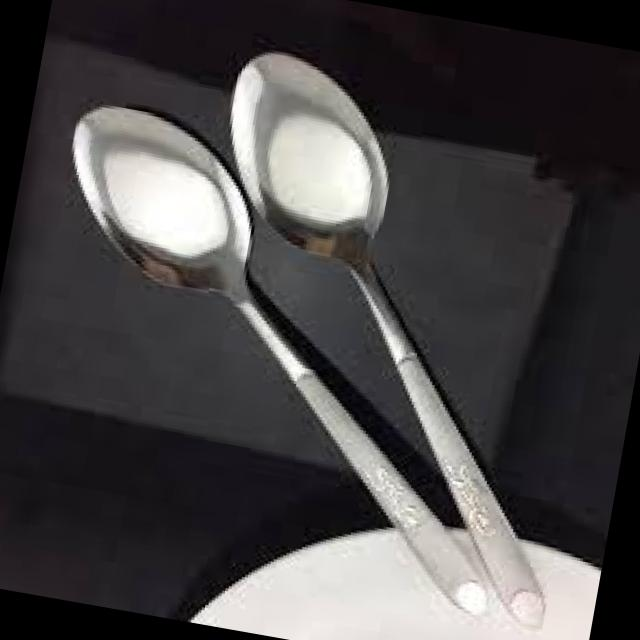spoon: (162, 39, 640, 581)
